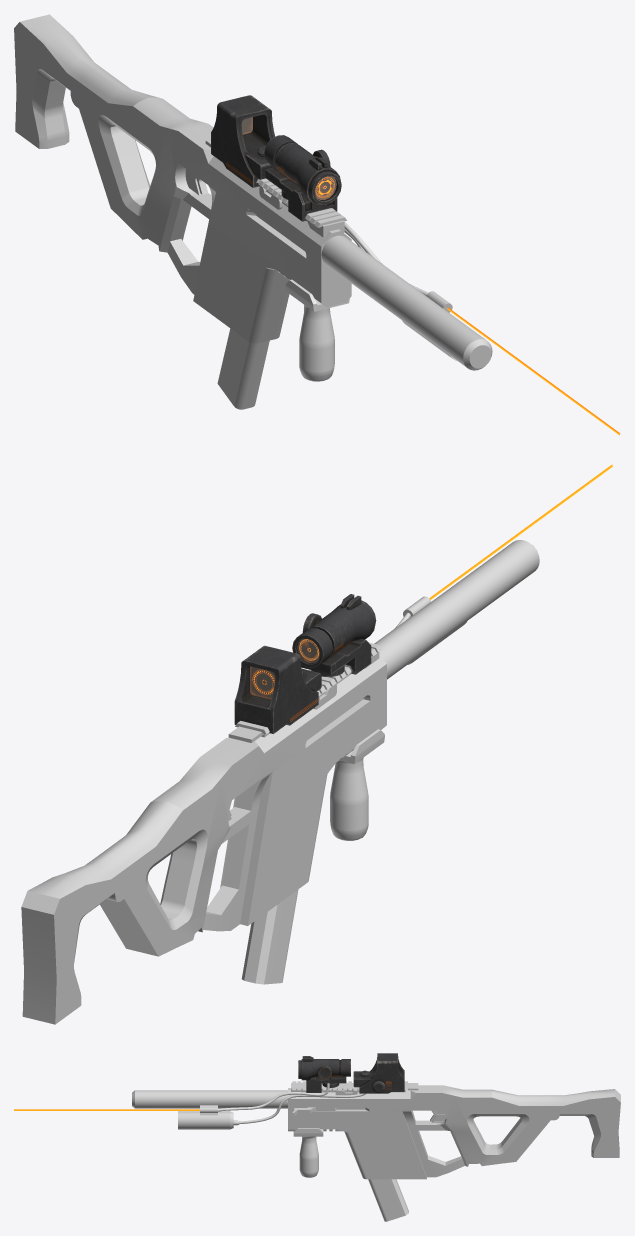
The model's file is vintorez.fbx.
3 views of the same model, one above another, from view 1: azimuth 30°, elevation 25°; view 2: azimuth 150°, elevation 25°; view 3: azimuth 270°, elevation 25° (orthographic). The views are drawn at different scales.
Visible parts, largest first — view 1: Circle.002; view 2: Circle.002; view 3: Circle.002.
Part boxes in pixels (box(x1,y1,x2,y2)): Circle.002: box(14, 14, 620, 435); Circle.002: box(21, 464, 612, 1024); Circle.002: box(14, 1053, 620, 1221).
Size of the model in its own units: 35.68 by 177 by 597.
